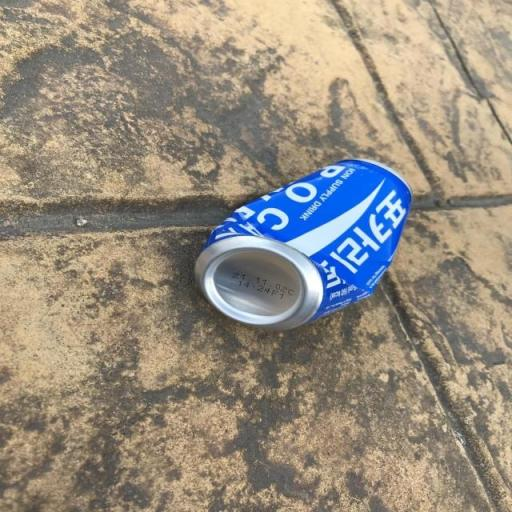metal: (168, 130, 430, 345)
